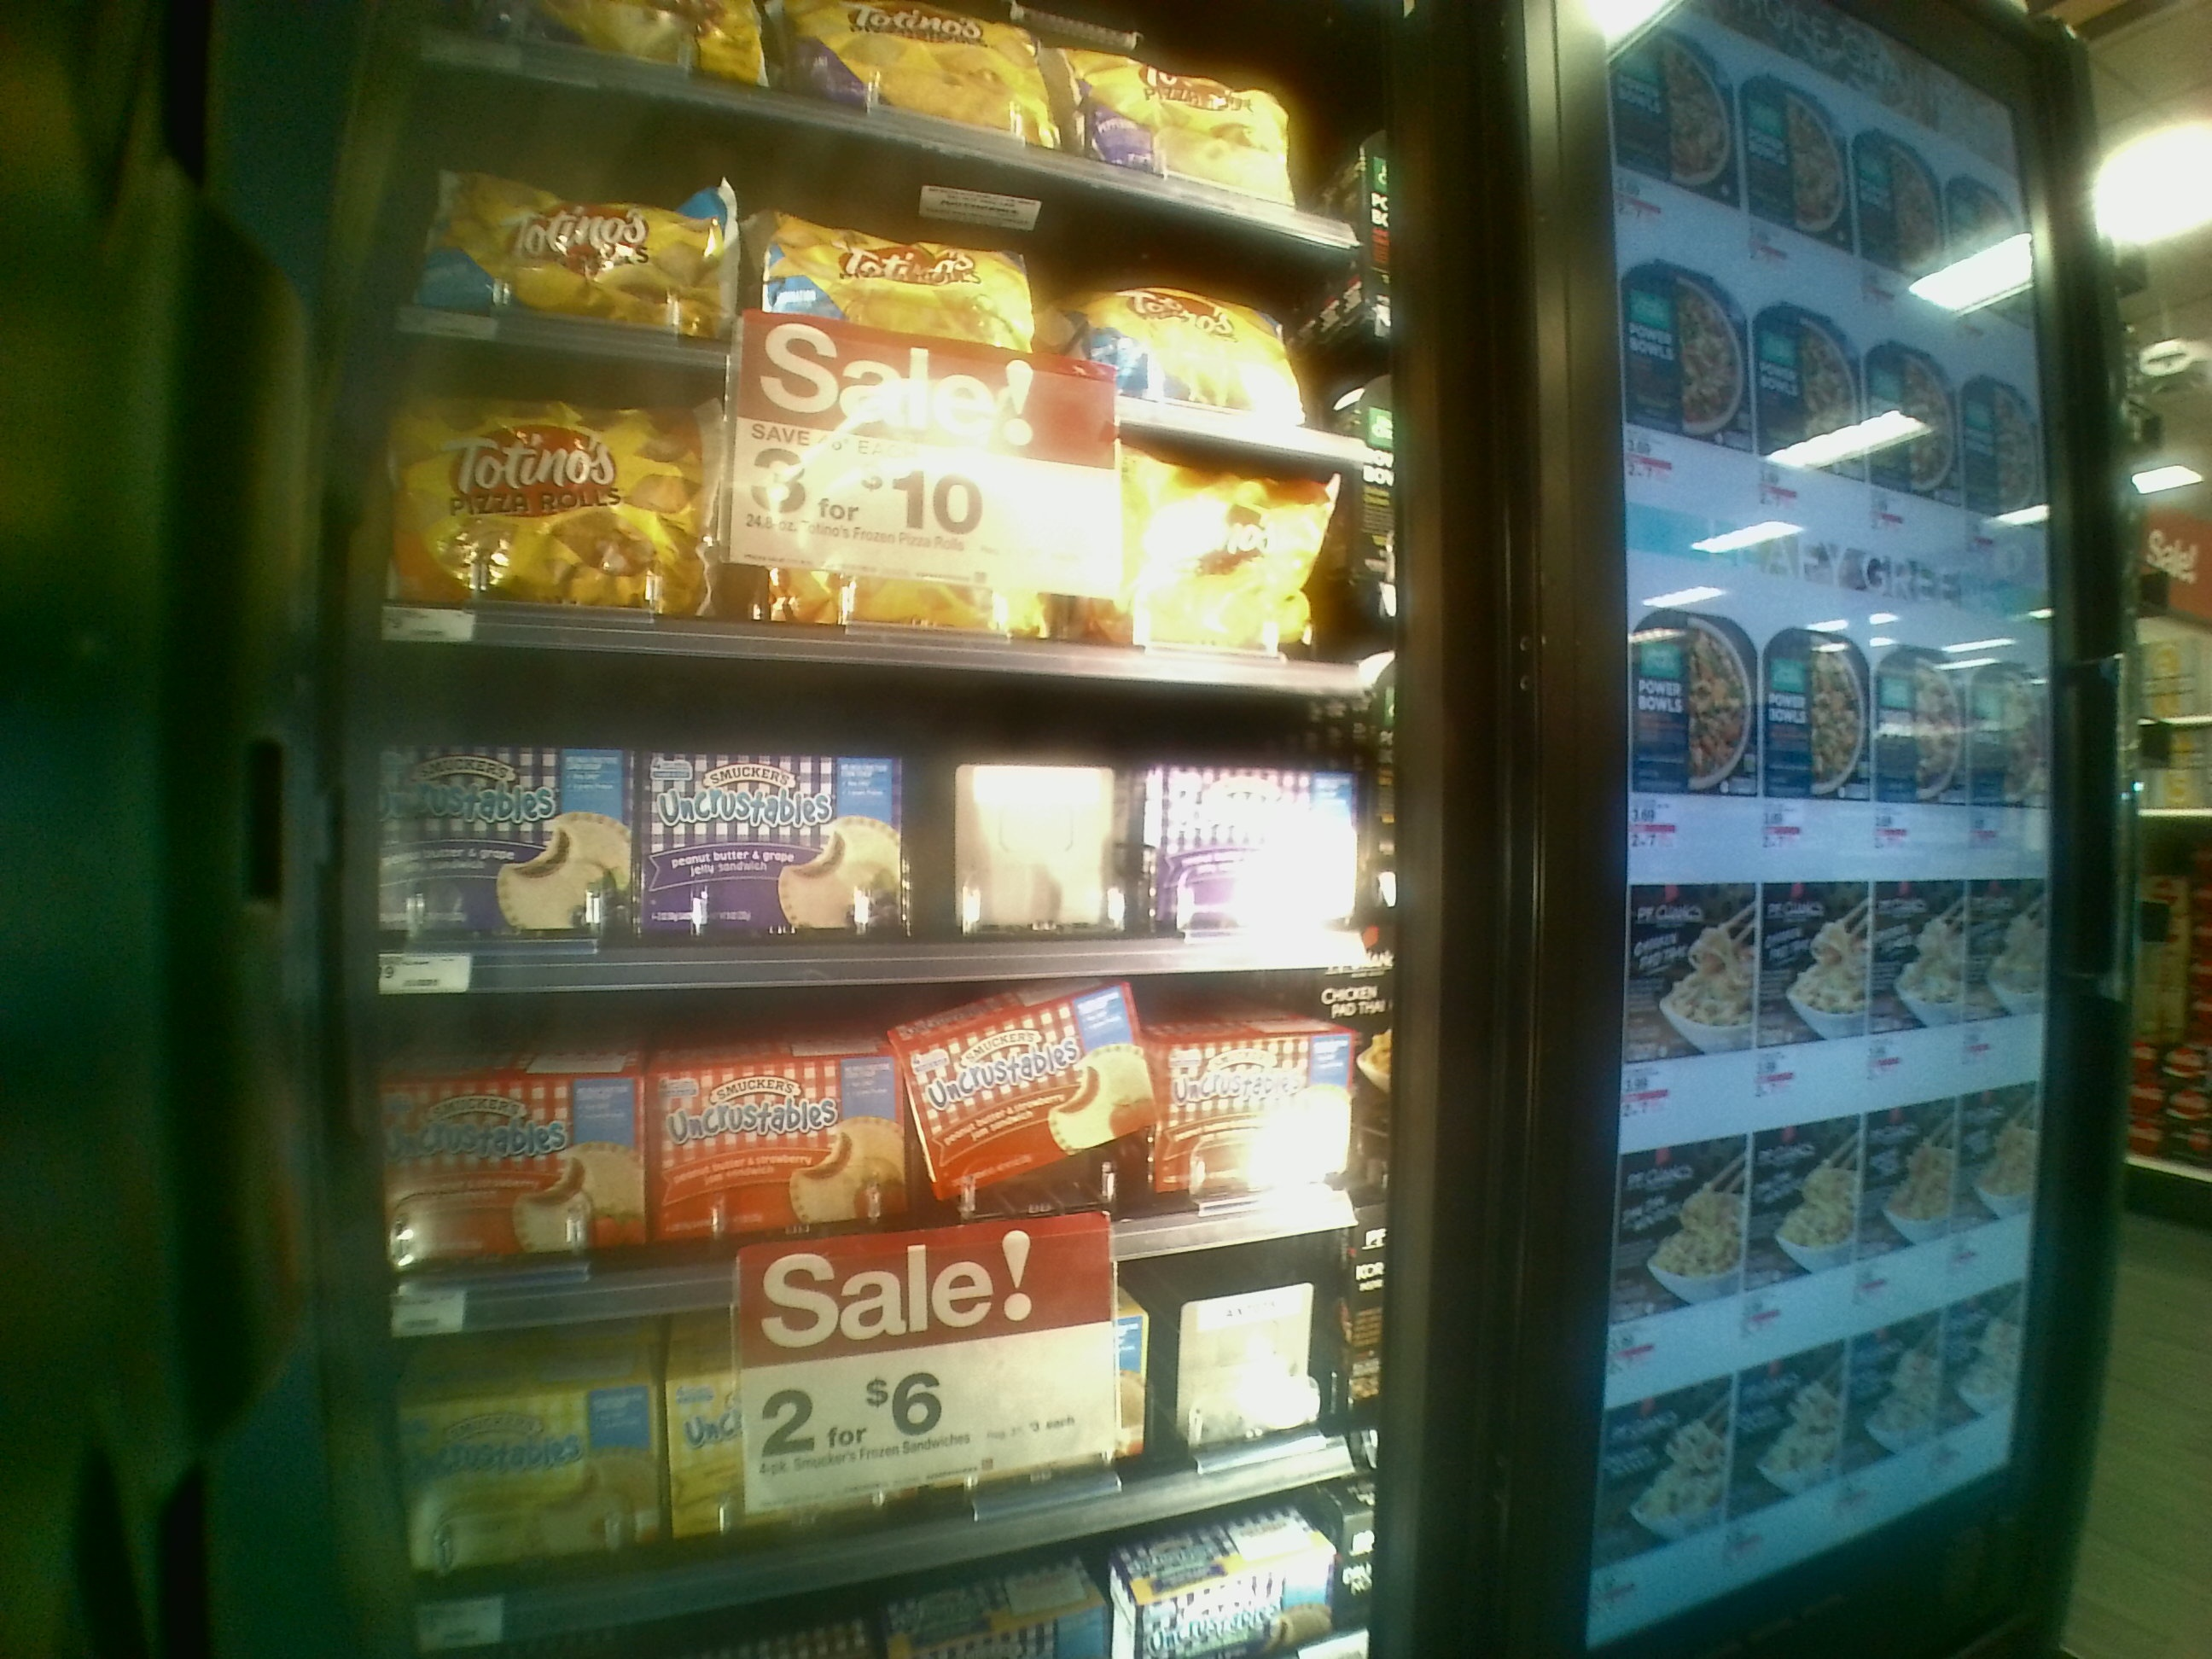shelf: (376, 1267, 1379, 1596), (374, 1265, 1378, 1595), (354, 669, 1378, 992), (354, 988, 1374, 1305), (361, 103, 1353, 418), (359, 394, 1362, 674)
